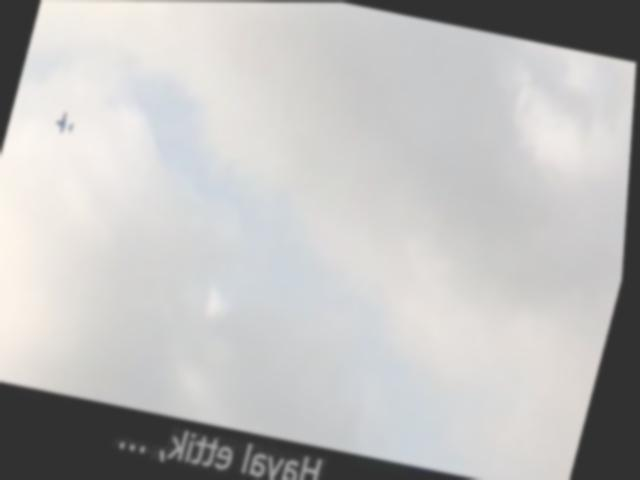uav: (48, 100, 89, 144)
